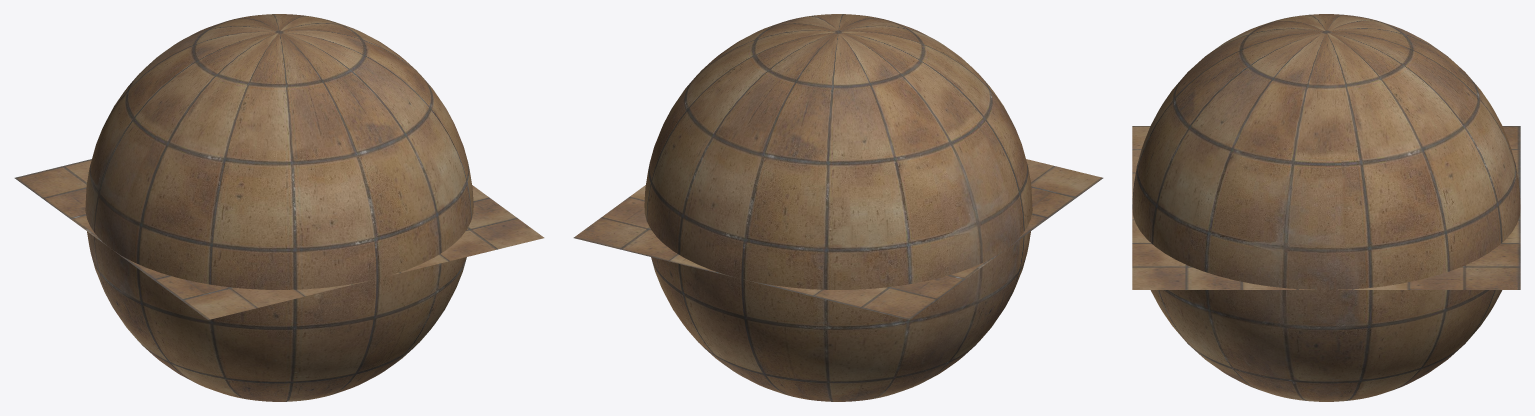
File: brown_floor_tiles.glb
3 views of the same model, side by side, from view 1: azimuth 30°, elevation 25°; view 2: azimuth 150°, elevation 25°; view 3: azimuth 270°, elevation 25° (orthographic).
Visible parts, largest first — view 1: Sphere, Plane; view 2: Sphere, Plane; view 3: Sphere, Plane.
Boxes of the visible parts, x1,y1,x2,y2 form: Sphere: [85, 14, 473, 401]; Plane: [14, 159, 544, 319]; Sphere: [644, 14, 1032, 401]; Plane: [573, 159, 1103, 319]; Sphere: [1132, 14, 1520, 401]; Plane: [1132, 126, 1520, 289].
Bounding box in the file's own units: 1.7 × 1.7 × 1.7.
Materials: 1 (1 with a texture image).
